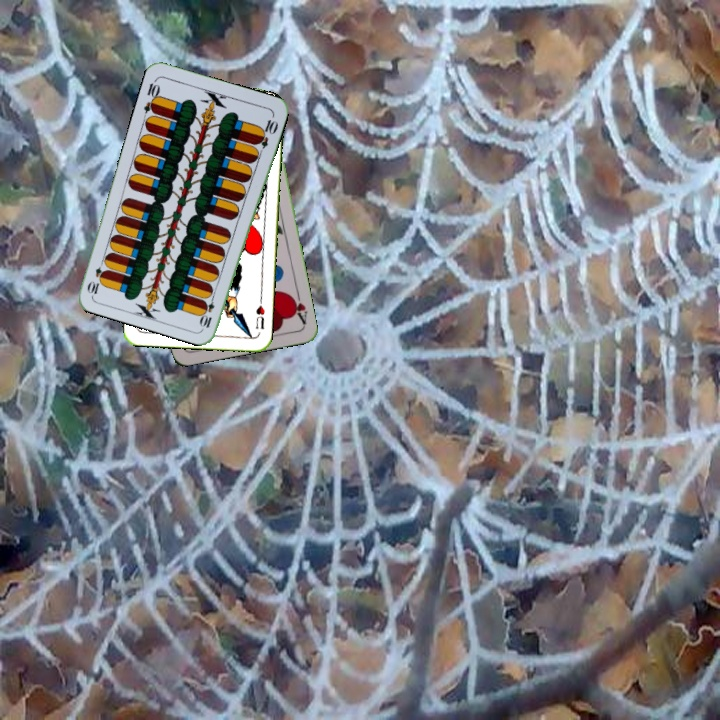E10: (140, 75, 163, 116), (198, 290, 217, 331)
HA: (286, 287, 310, 327)
HU: (252, 302, 267, 332)
